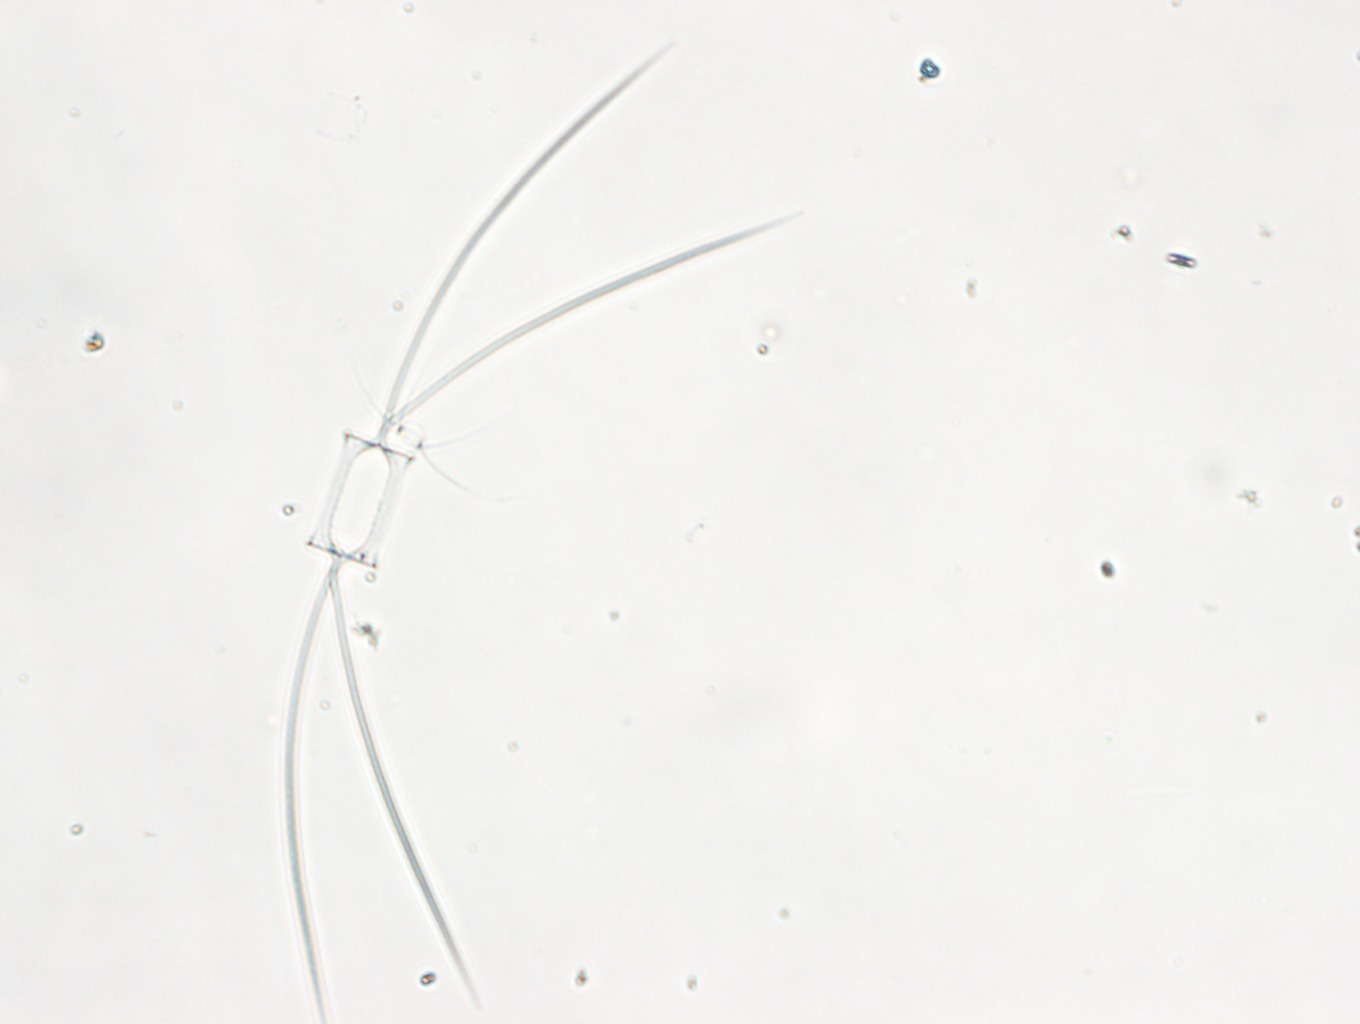chaetoceros: (285, 38, 800, 1022)
